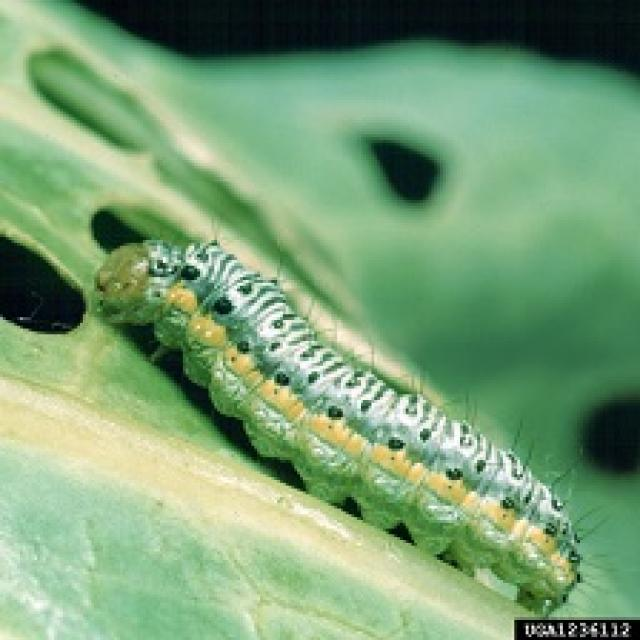Cabbage-worm: (85, 218, 592, 611)
